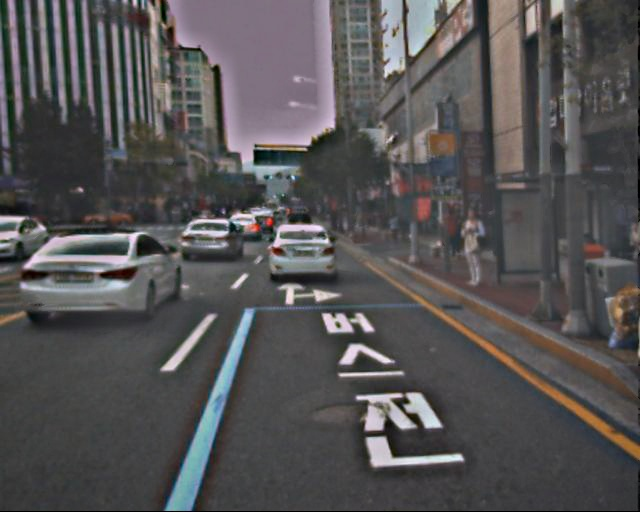person: (455, 208, 489, 290), (440, 207, 462, 260), (390, 212, 412, 242)
